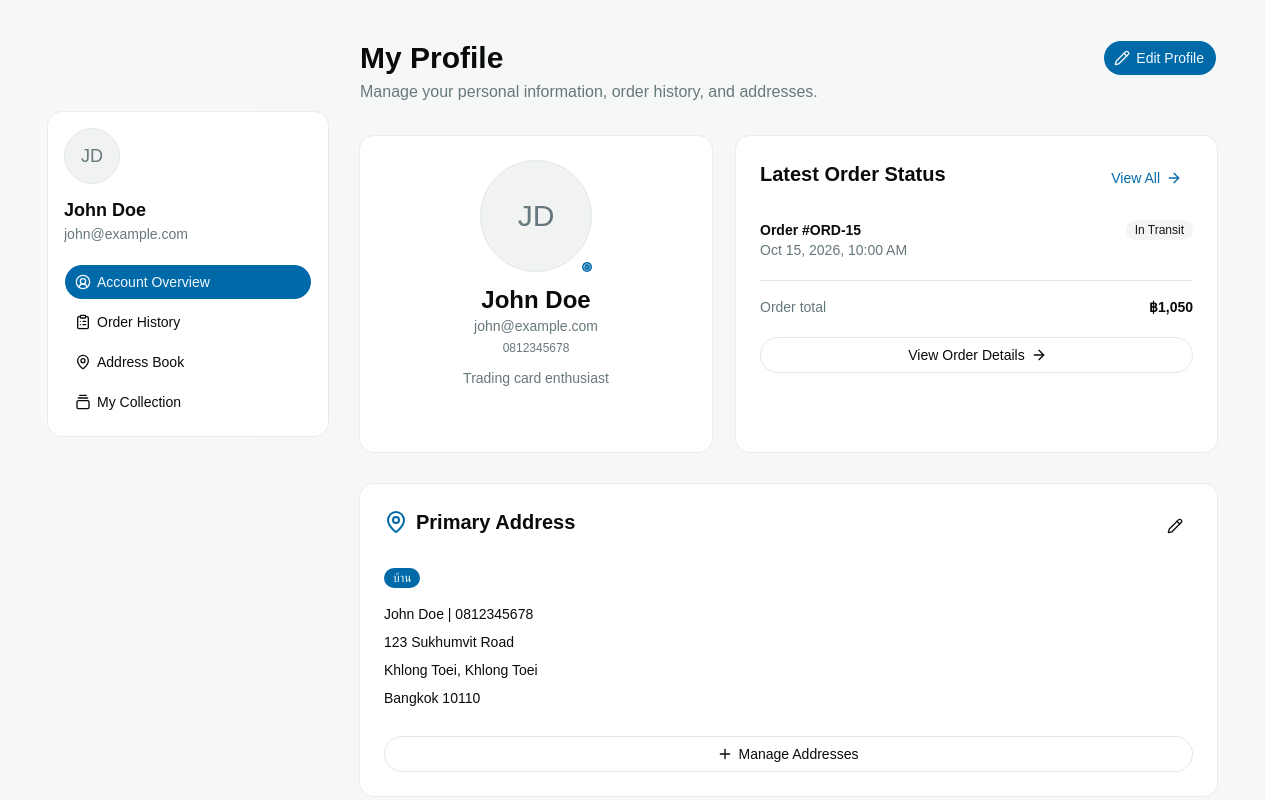
Test: ProfilePage › opens edit profile dialog when Edit Profile is clicked
This screenshot has width=1280, height=800.
Step 1. Click the button "Edit Profile" → (1160, 58), box [1103,40,1217,76]
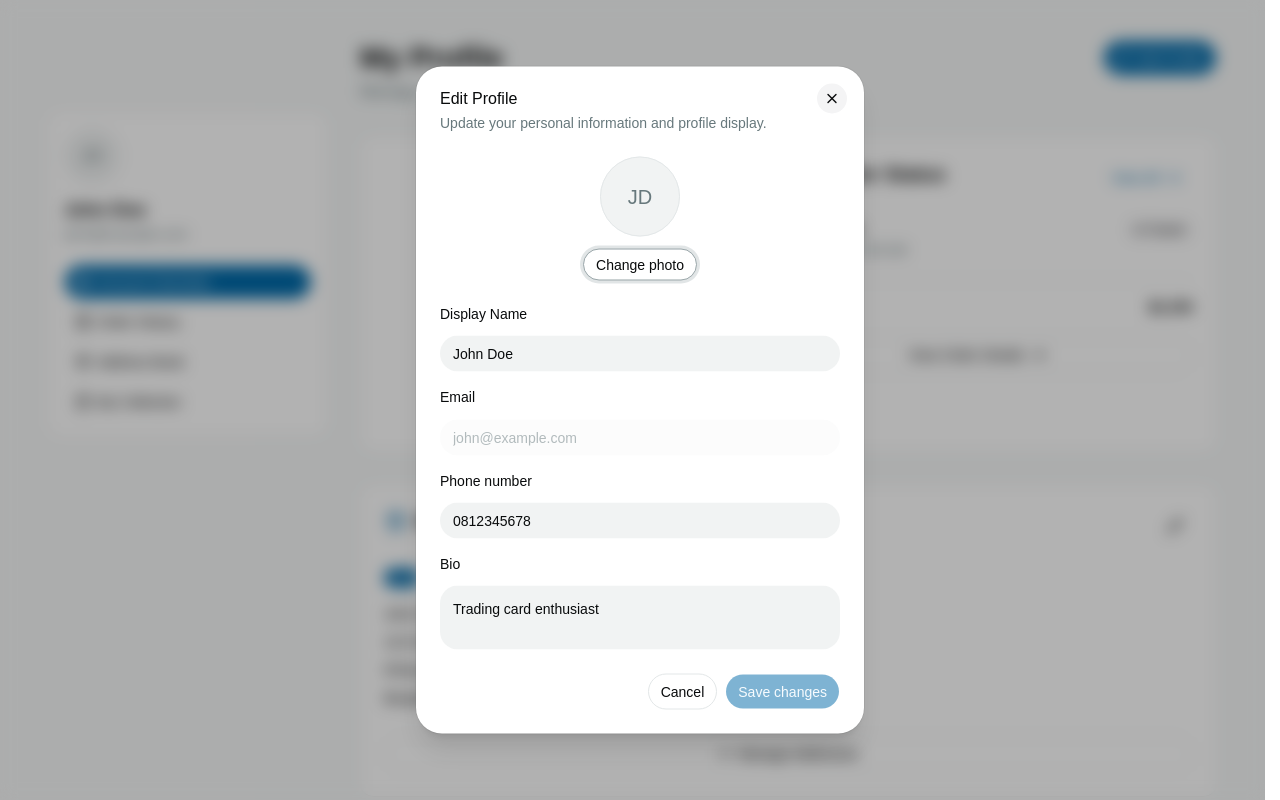
Expected: the text "Update your personal information and profile display." is shown, [440,114,767,130]
